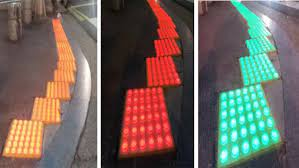guide_blocks: (218, 86, 284, 165), (5, 97, 60, 157), (121, 89, 172, 151), (240, 38, 279, 84), (144, 40, 181, 84), (232, 1, 268, 36), (48, 61, 77, 97), (147, 1, 176, 37), (53, 19, 74, 61)
